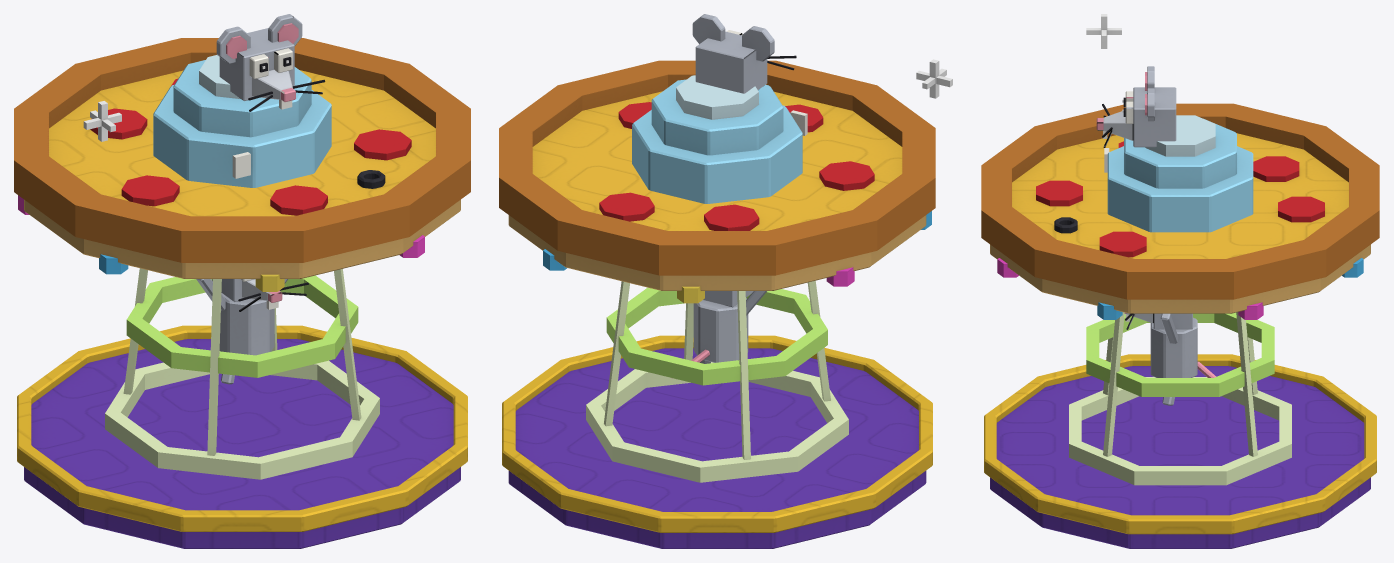
Rendered from PizzaUfo.fbx.
3 views of the same model, side by side, from view 1: azimuth 30°, elevation 25°; view 2: azimuth 150°, elevation 25°; view 3: azimuth 270°, elevation 25° (orthographic). The views are drawn at different scales.
Parts seen in each view (by area): view 1: Art_PizzaUfo_Ufo, Art_PizzaUfo_Stand, Art_PizzaUfo_Beam, Art_PizzaUfo_Dome, Art_PizzaUfo_Pilot, Art_PizzaUfo_Mouse; view 2: Art_PizzaUfo_Ufo, Art_PizzaUfo_Stand, Art_PizzaUfo_Beam, Art_PizzaUfo_Dome, Art_PizzaUfo_Pilot, Art_PizzaUfo_Mouse; view 3: Art_PizzaUfo_Ufo, Art_PizzaUfo_Stand, Art_PizzaUfo_Beam, Art_PizzaUfo_Dome, Art_PizzaUfo_Pilot, Art_PizzaUfo_Mouse.
Part boxes in pixels (left/top/right/bottom): Art_PizzaUfo_Ufo: left=14, top=38, right=470, bottom=291; Art_PizzaUfo_Stand: left=17, top=325, right=467, bottom=548; Art_PizzaUfo_Beam: left=105, top=268, right=379, bottom=479; Art_PizzaUfo_Dome: left=153, top=55, right=331, bottom=187; Art_PizzaUfo_Pilot: left=83, top=14, right=325, bottom=141; Art_PizzaUfo_Mouse: left=196, top=279, right=308, bottom=384; Art_PizzaUfo_Ufo: left=499, top=60, right=935, bottom=303; Art_PizzaUfo_Stand: left=502, top=335, right=932, bottom=548; Art_PizzaUfo_Beam: left=586, top=280, right=848, bottom=482; Art_PizzaUfo_Dome: left=632, top=75, right=807, bottom=203; Art_PizzaUfo_Pilot: left=692, top=14, right=952, bottom=98; Art_PizzaUfo_Mouse: left=672, top=291, right=766, bottom=380; Art_PizzaUfo_Ufo: left=981, top=103, right=1379, bottom=319; Art_PizzaUfo_Stand: left=984, top=354, right=1376, bottom=548; Art_PizzaUfo_Beam: left=1069, top=312, right=1291, bottom=485; Art_PizzaUfo_Dome: left=1104, top=115, right=1253, bottom=232; Art_PizzaUfo_Pilot: left=1086, top=14, right=1176, bottom=147; Art_PizzaUfo_Mouse: left=1124, top=312, right=1216, bottom=405.
Size of the model in its own units: 3.15 by 3.38 by 3.13.
